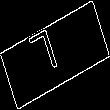L_SE: (37, 26, 73, 84)
